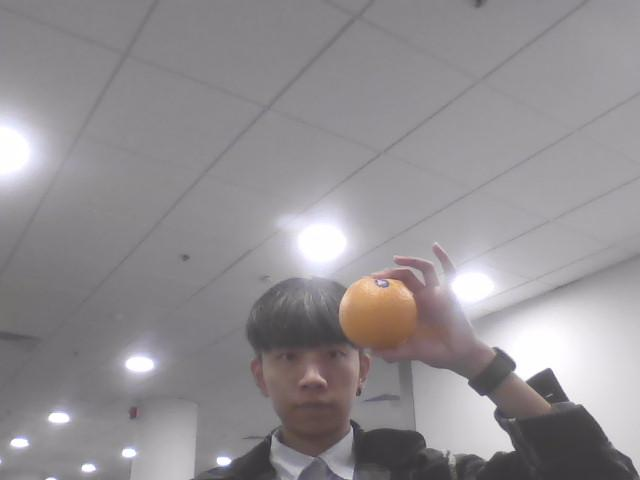orange: (339, 274, 416, 349)
